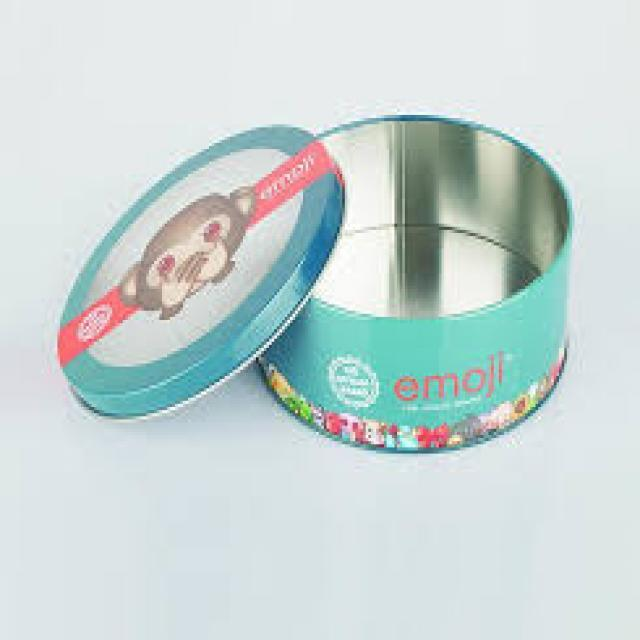recyclable: (256, 111, 576, 454), (54, 122, 349, 425)
